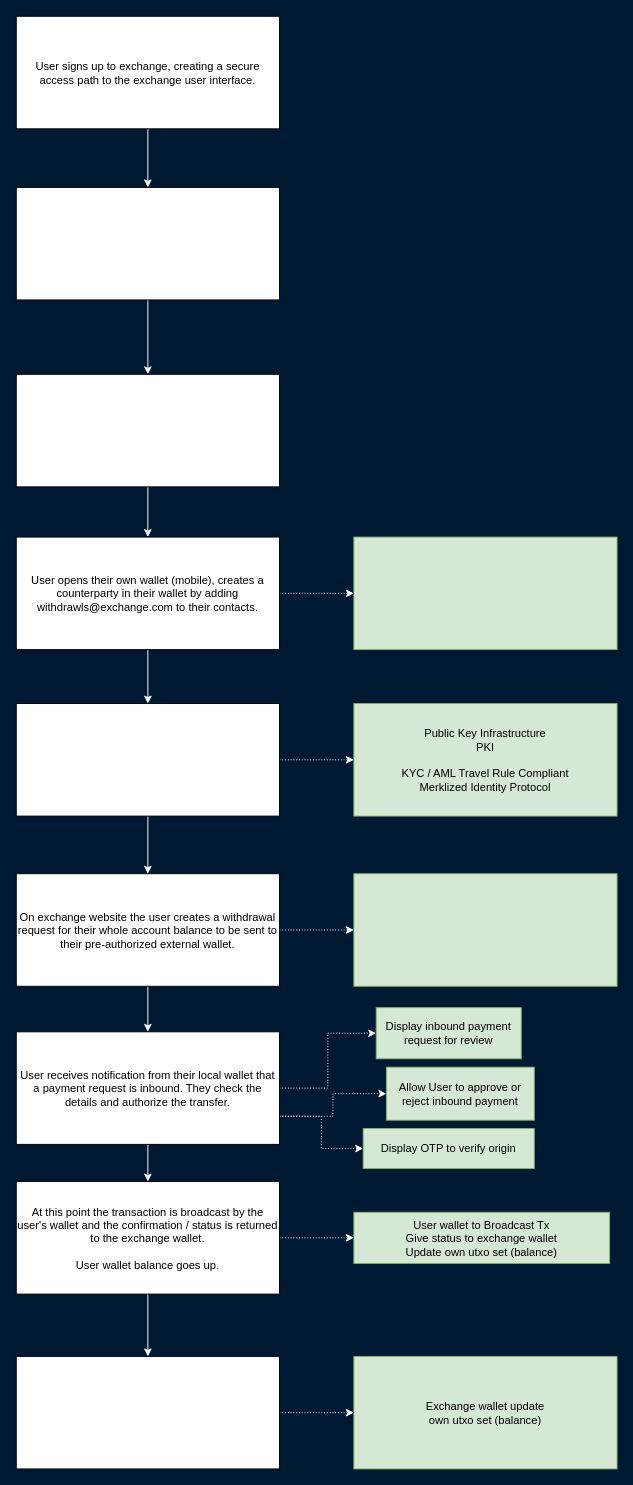
Some shapes in this 633 by 1485 pixel diagram are drawn without their labels. Here are the shapes that lost their labels. From the top down, the centre of each, then its label:
At point 147,243: "User goes through KYC / AML data capture".
At point 147,430: "User puts fiat onto exchange via bank, then purchases BSV in exchange.".
At point 485,593: "Wallet Contact Management".
At point 147,759: "Establish Mutual End to end authentication between wallet and exchange".
At point 485,929: "Solicited Payment Instantiation with a pre-authorized contact".
At point 147,1412: "Exchange wallet balance goes down.".
